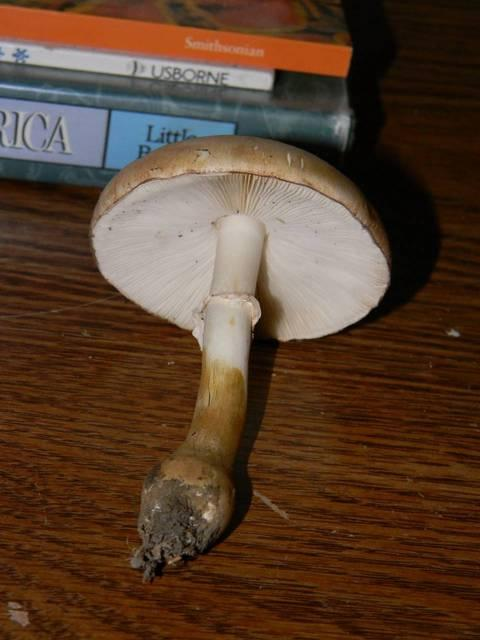poisonous_mushroom: (87, 132, 392, 583)
